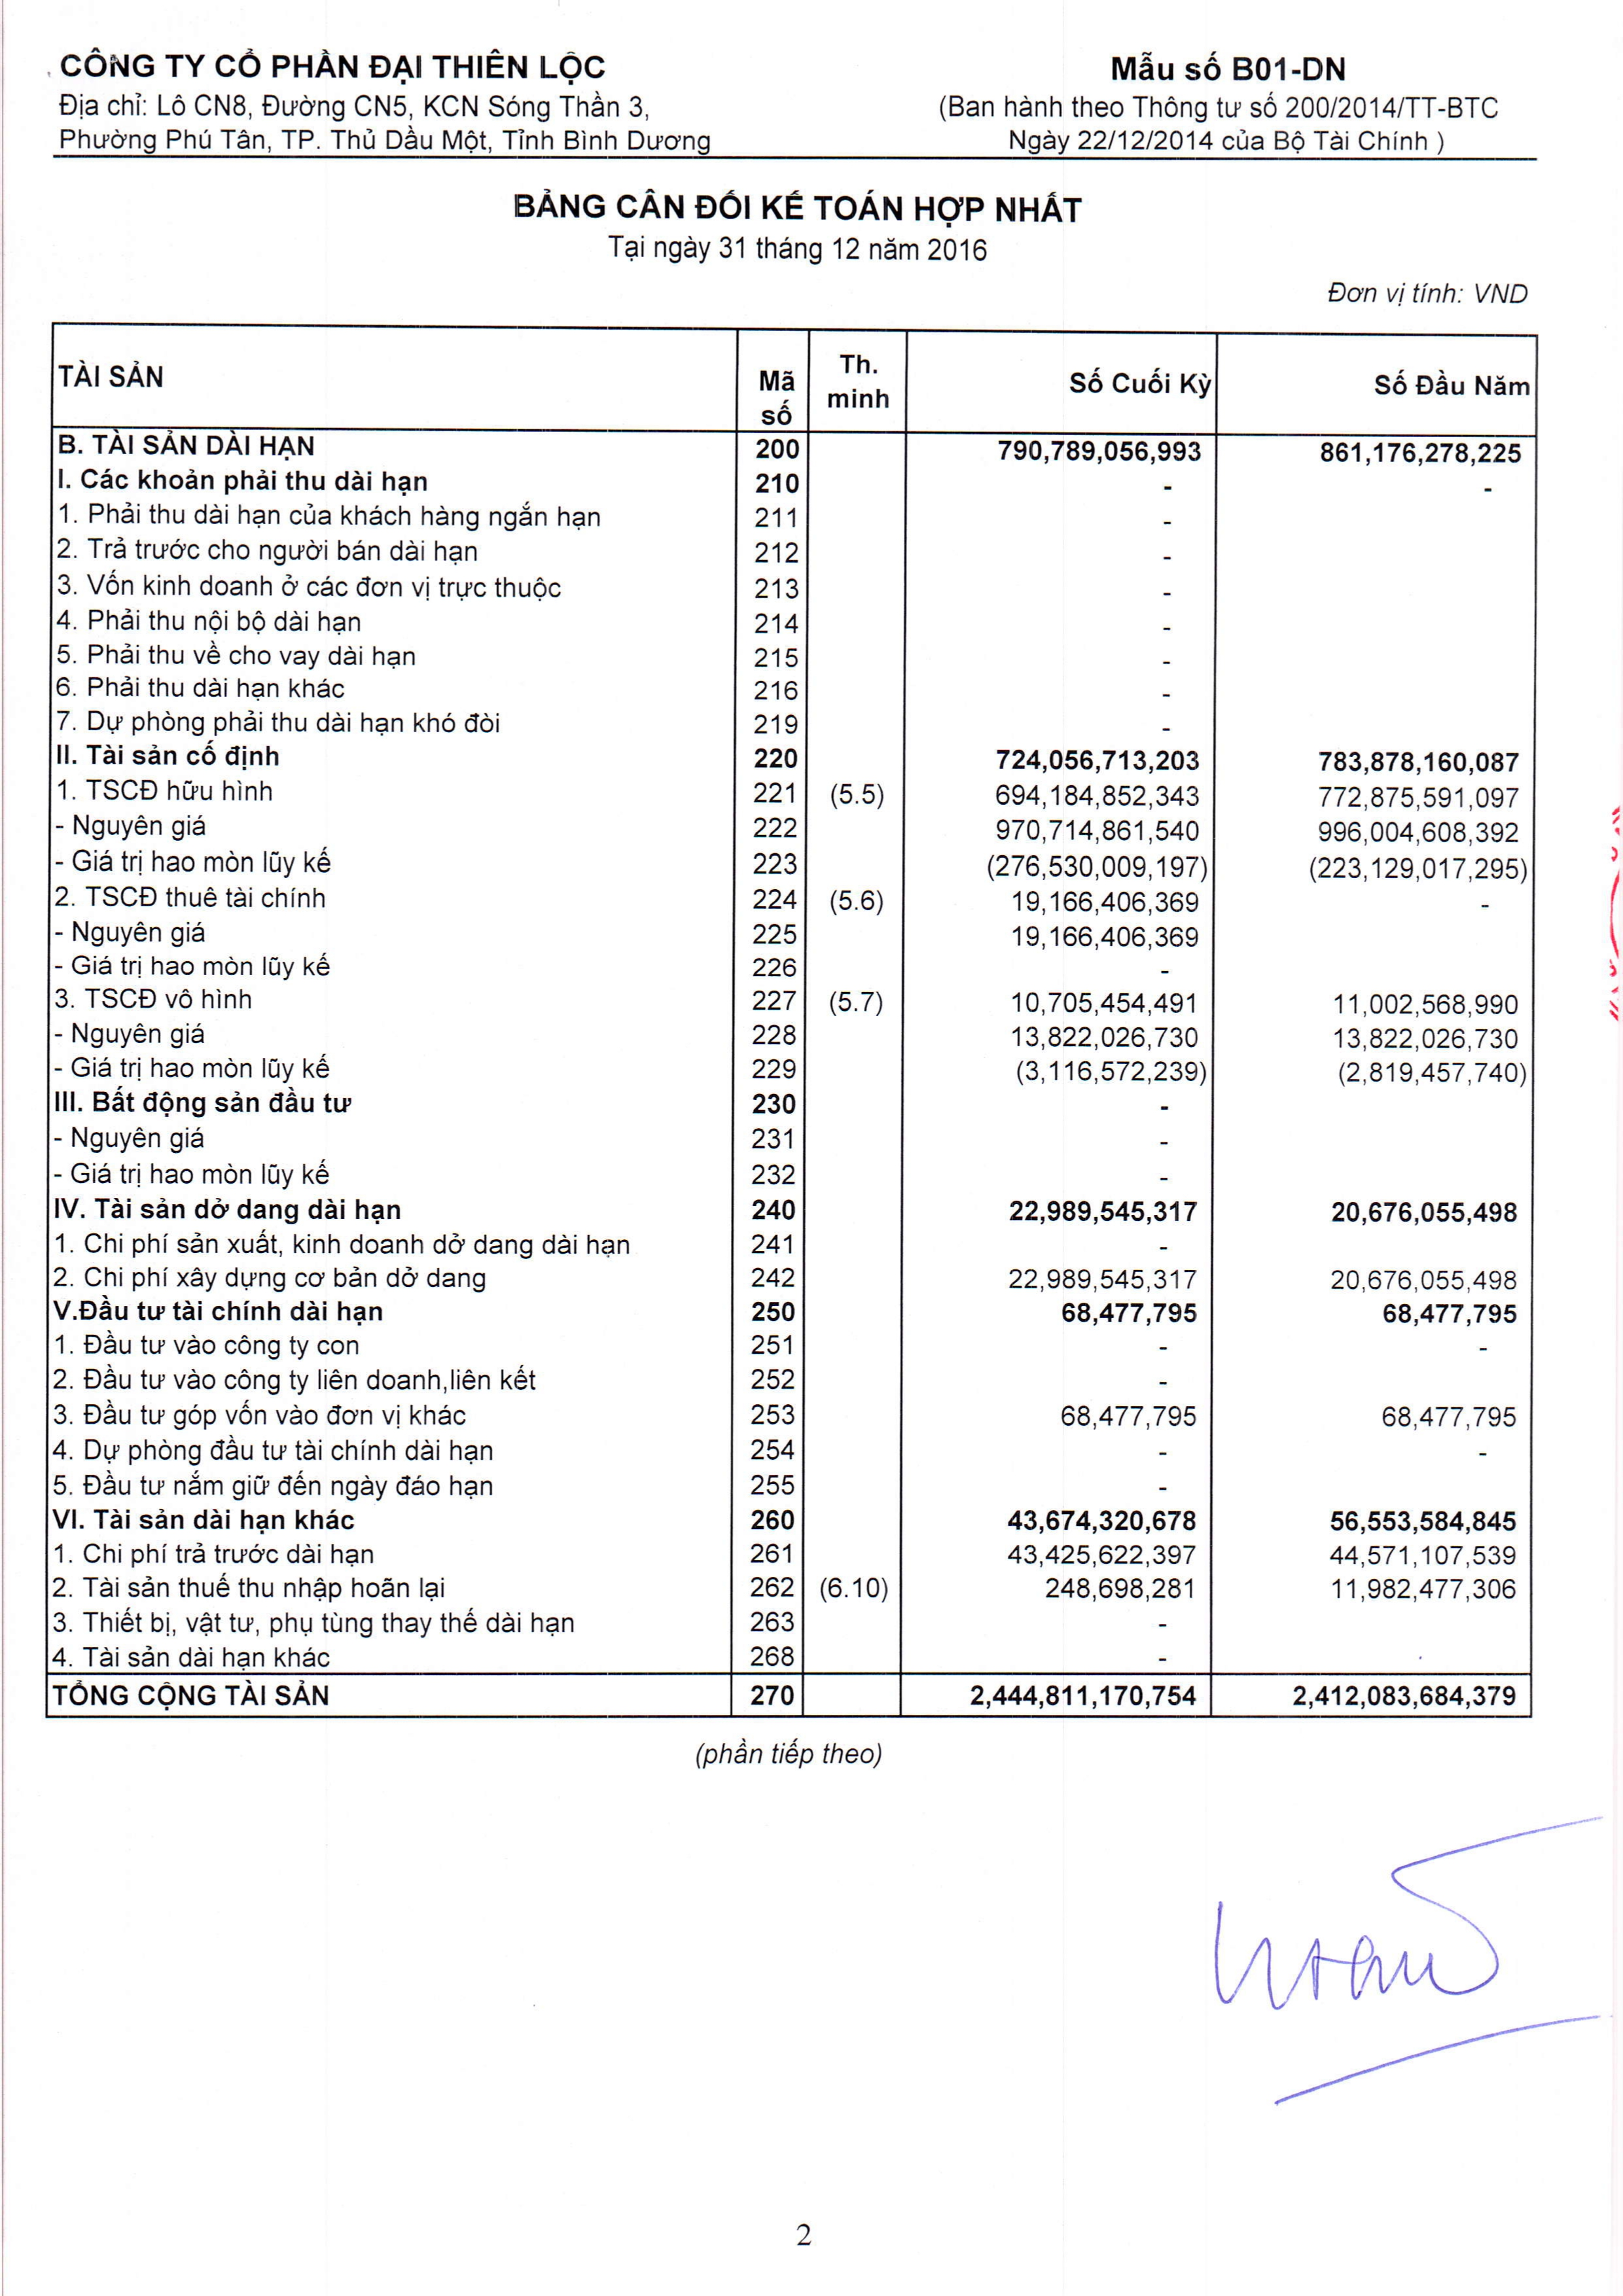table: (32, 311, 1551, 1733)
table column: (32, 311, 683, 1733), (1284, 311, 1551, 1733), (959, 311, 1221, 1733), (838, 311, 908, 1733), (747, 311, 801, 1733)
table column header: (32, 311, 1551, 393)
table row: (32, 325, 1551, 381), (32, 463, 1551, 497), (32, 535, 1551, 569), (32, 607, 1551, 641), (32, 679, 1551, 713), (32, 714, 1551, 748), (32, 790, 1551, 823), (32, 823, 1551, 857), (32, 858, 1551, 892), (32, 965, 1551, 999), (32, 1039, 1551, 1073), (32, 1113, 1551, 1146), (32, 1148, 1551, 1181), (32, 1185, 1551, 1218), (32, 1218, 1551, 1252), (32, 1257, 1551, 1290), (32, 1401, 1551, 1434), (32, 1473, 1551, 1506), (32, 1508, 1551, 1541), (32, 1692, 1551, 1726), (32, 428, 1551, 460), (32, 500, 1551, 532), (32, 572, 1551, 604), (32, 644, 1551, 676), (32, 751, 1551, 783), (32, 897, 1551, 929), (32, 932, 1551, 964), (32, 1006, 1551, 1037), (32, 1076, 1551, 1108), (32, 1292, 1551, 1324), (32, 1329, 1551, 1360), (32, 1366, 1551, 1397), (32, 1438, 1551, 1469), (32, 1545, 1551, 1576), (32, 1580, 1551, 1611), (32, 1617, 1551, 1648), (32, 1652, 1551, 1683), (32, 393, 1551, 423)
